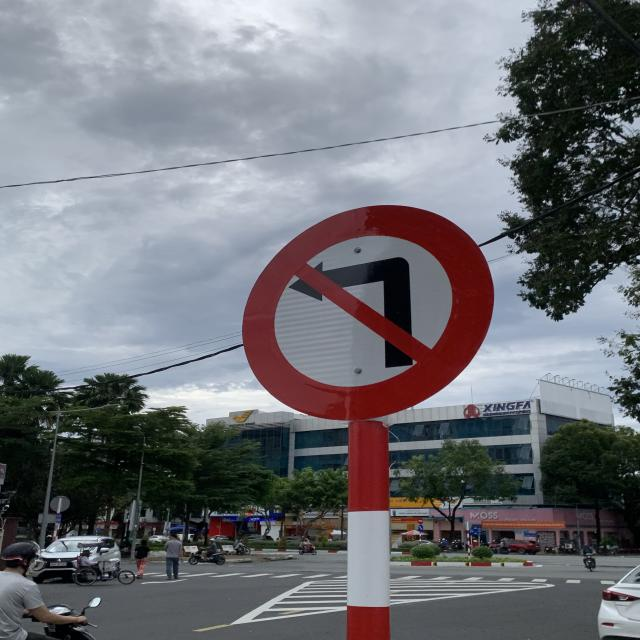Cam_Re_Trai: (241, 204, 494, 422)
